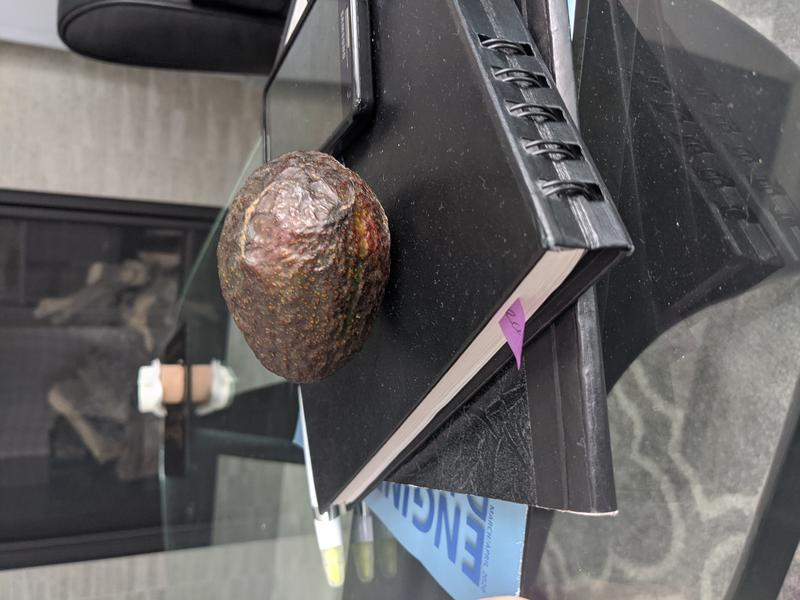avocado: (215, 150, 393, 386)
